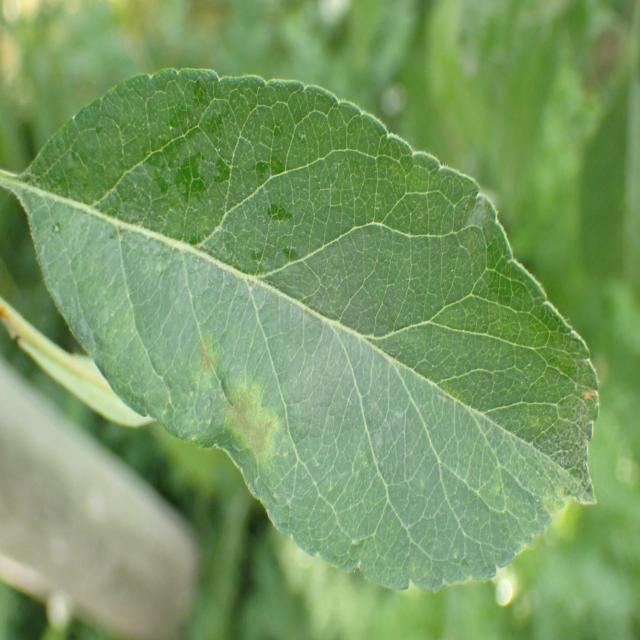scab: (65, 202, 302, 518)
